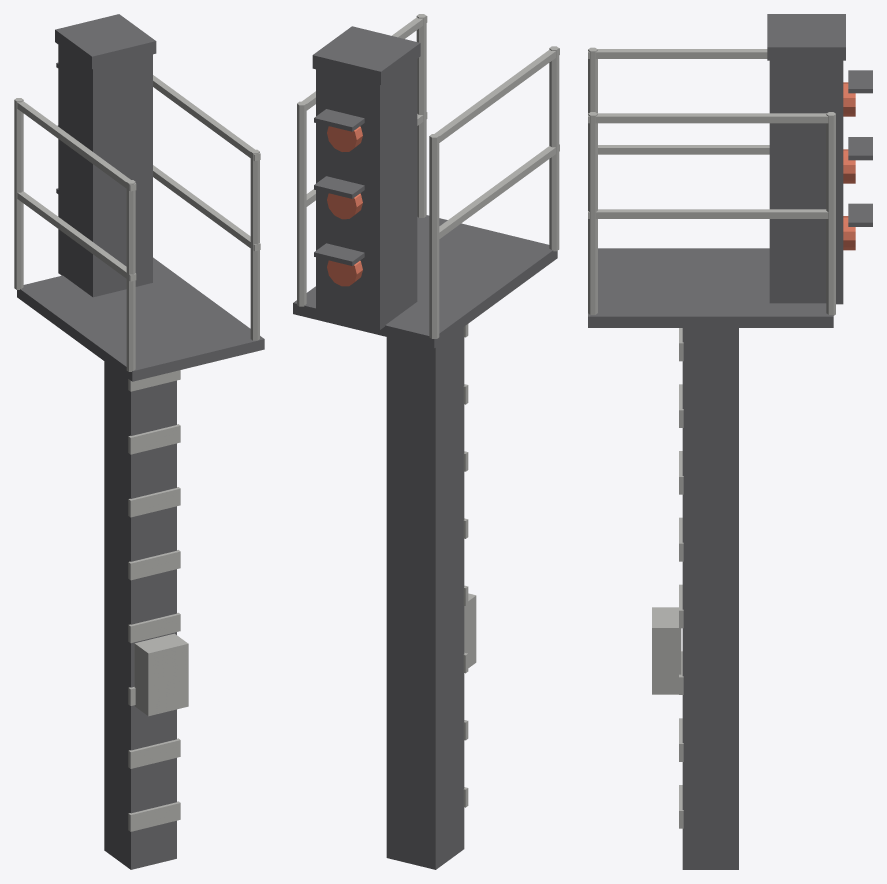
The model's file is dm_railsignal.glb.
3 views of the same model, side by side, from view 1: azimuth 30°, elevation 25°; view 2: azimuth 150°, elevation 25°; view 3: azimuth 270°, elevation 25° (orthographic). The views are drawn at different scales.
Parts seen in each view (by area): view 1: dm_railsignal; view 2: dm_railsignal; view 3: dm_railsignal.
Part boxes in pixels (left/top/right/bottom): dm_railsignal: left=14, top=14, right=264, bottom=869; dm_railsignal: left=293, top=14, right=559, bottom=869; dm_railsignal: left=588, top=14, right=872, bottom=869.
Bounding box in the file's own units: 0.6723 × 3.74 × 1.16.
